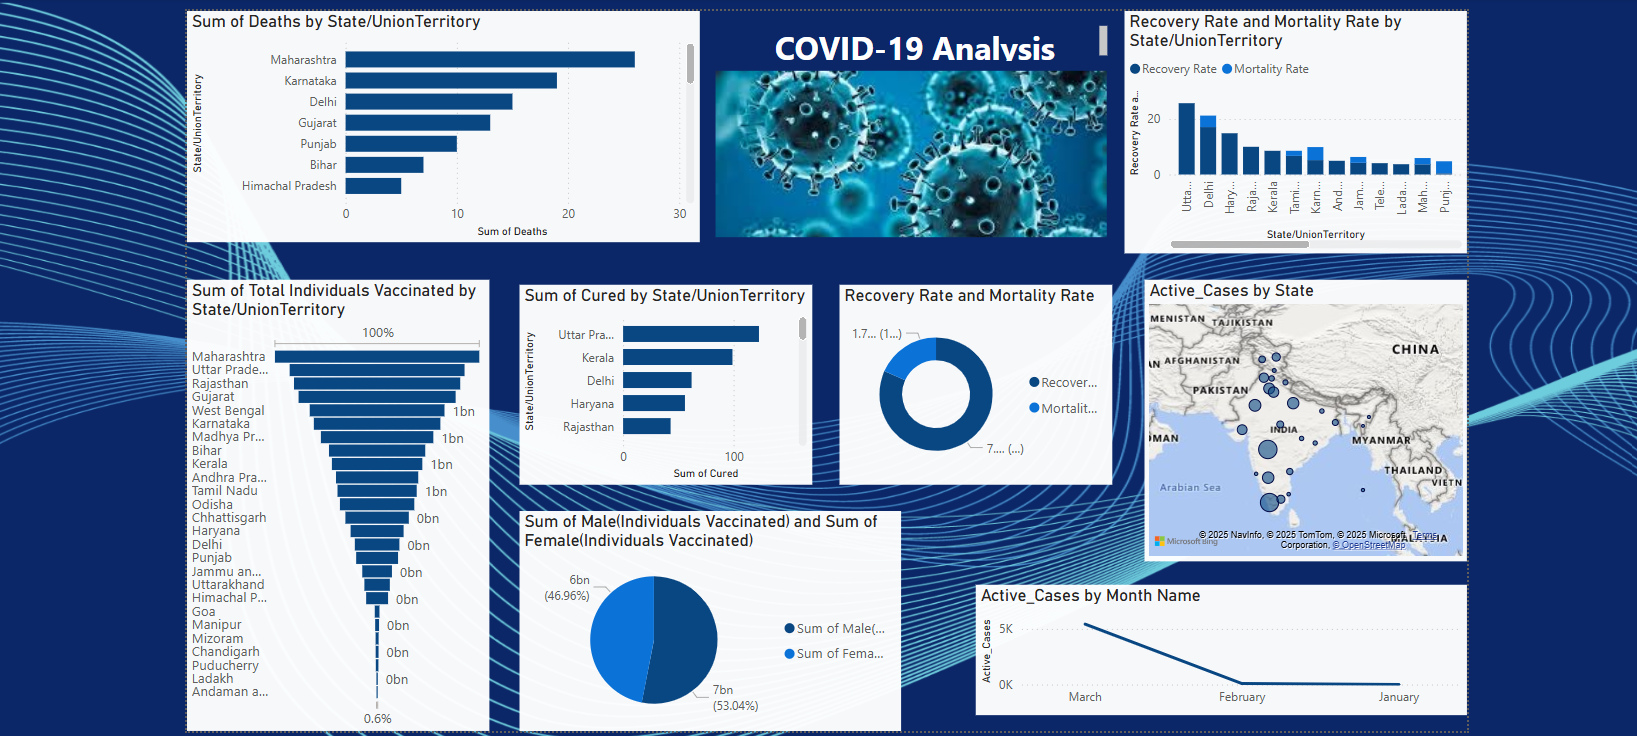

The page's visual inventory and layout, read from the dashboard file:
{"tool":"powerbi","page":{"name":"Page 1","canvas":[1280,720],"ordinal":0},"visuals":[{"type":"map","fields":{"Category":["covid_vaccine_statewise.State"],"Size":["COVID_Measures.Active_Cases"]},"box":[957.5,268.8,322.5,281.2],"z":0},{"type":"barChart","fields":{"Y":["Sum(covid_19_india.Cured)"],"Category":["covid_19_india.State/UnionTerritory"]},"box":[332.5,273.8,292.5,200],"z":1000},{"type":"clusteredBarChart","fields":{"Category":["covid_19_india.State/UnionTerritory"],"Y":["Sum(covid_19_india.Deaths)"]},"box":[0,0,512.5,231.2],"z":2000},{"type":"columnChart","fields":{"Y":["COVID_Measures.Recovery Rate","COVID_Measures.Mortality Rate"],"Category":["covid_19_india.State/UnionTerritory"]},"box":[937.5,0,342.5,242.5],"z":3000},{"type":"donutChart","fields":{"Y":["COVID_Measures.Recovery Rate","COVID_Measures.Mortality Rate"]},"box":[652.5,273.8,272.5,200],"z":4000},{"type":"lineChart","fields":{"Category":["covid_19_india.Month Name"],"Y":["COVID_Measures.Active_Cases"]},"box":[788.8,573.8,491.2,130],"z":5000},{"type":"pieChart","fields":{"Y":["Sum(covid_vaccine_statewise.Male(Individuals Vaccinated))","Sum(covid_vaccine_statewise.Female(Individuals Vaccinated))"]},"box":[332.5,500,381.2,220],"z":6000},{"type":"funnel","fields":{"Category":["covid_19_india.State/UnionTerritory"],"Y":["Sum(covid_vaccine_statewise.Total Individuals Vaccinated)"]},"box":[0,268.8,302.5,451.2],"z":7000},{"type":"image","box":[523.8,55,401.2,176.2],"z":8000},{"type":"textbox","box":[538.8,10,386.2,45],"z":9000}]}

Visuals, with their boxes in screenshot pixels (x1, y1, x2, y2):
map - covid_vaccine_statewise.State x COVID_Measures.Active_Cases: <box>1146,276,1472,560</box>
barChart - Sum(covid_19_india.Cured) x covid_19_india.State/UnionTerritory: <box>515,281,810,483</box>
clusteredBarChart - covid_19_india.State/UnionTerritory x Sum(covid_19_india.Deaths): <box>179,4,697,238</box>
columnChart - COVID_Measures.Recovery Rate x COVID_Measures.Mortality Rate: <box>1126,4,1472,249</box>
donutChart - COVID_Measures.Recovery Rate x COVID_Measures.Mortality Rate: <box>838,281,1113,483</box>
lineChart - covid_19_india.Month Name x COVID_Measures.Active_Cases: <box>976,584,1472,715</box>
pieChart - Sum(covid_vaccine_statewise.Male(Individuals Vaccinated)) x Sum(covid_vaccine_statewise.Female(Individuals Vaccinated)): <box>515,509,900,732</box>
funnel - covid_19_india.State/UnionTerritory x Sum(covid_vaccine_statewise.Total Individuals Vaccinated): <box>179,276,485,732</box>
image: <box>708,60,1113,238</box>
textbox: <box>723,14,1113,60</box>
